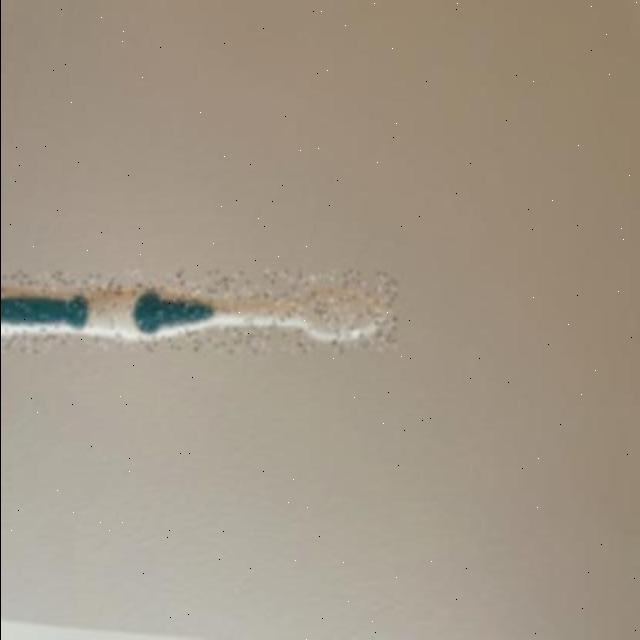toothbrush: (1, 272, 396, 352)
